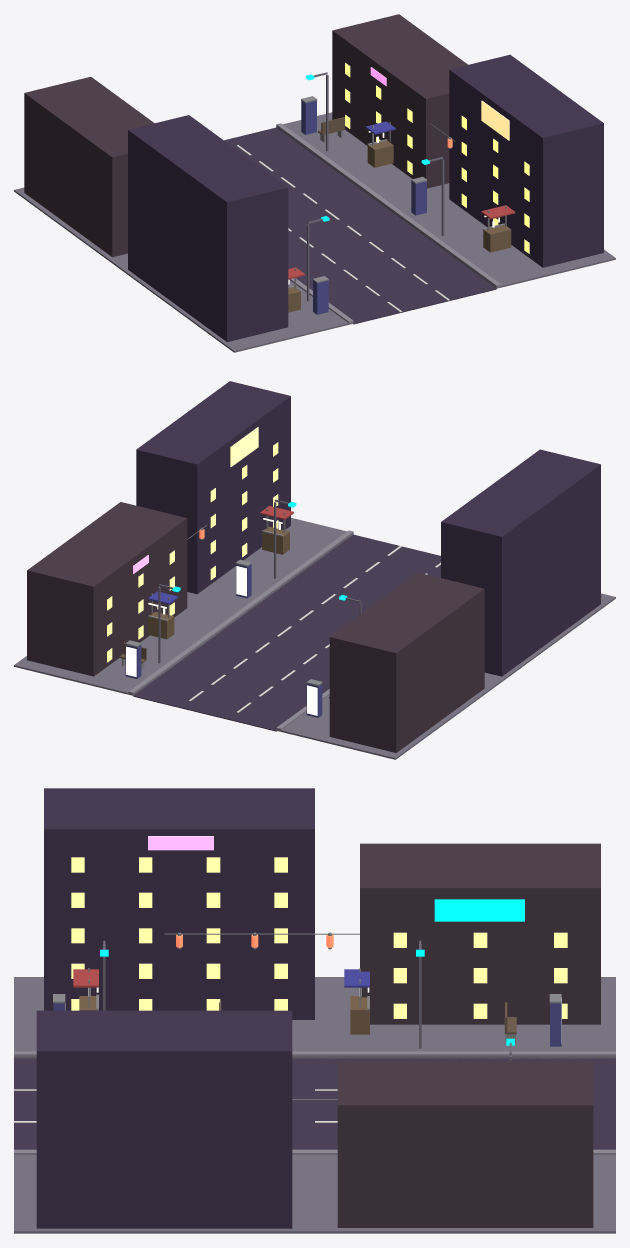
The model's file is env1-1.glb.
The picture shows the model from 3 angles, top to bottom: view 1: azimuth 30°, elevation 25°; view 2: azimuth 150°, elevation 25°; view 3: azimuth 270°, elevation 25°; orthographic projection. The views are drawn at different scales.
Parts seen in each view (by area): view 1: env1-1; view 2: env1-1; view 3: env1-1.
Part boxes in pixels (box(x1,y1,x2,y2)): env1-1: box(14, 14, 615, 352); env1-1: box(14, 381, 615, 759); env1-1: box(14, 788, 615, 1233).
Bounding box in the file's own units: 20 × 7.12 × 20.
